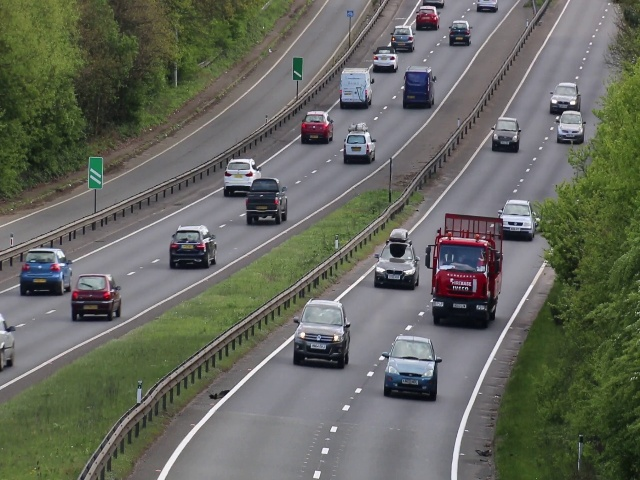car: (435, 233, 497, 329), (291, 294, 352, 370), (383, 331, 437, 402), (16, 244, 76, 296), (168, 220, 219, 272), (71, 269, 119, 321), (242, 177, 289, 226), (379, 230, 418, 288), (495, 194, 539, 238), (339, 63, 374, 109), (222, 157, 262, 193), (403, 69, 437, 109), (339, 130, 377, 164), (300, 109, 334, 146), (554, 109, 586, 144), (492, 115, 521, 153), (551, 80, 579, 114), (369, 47, 399, 72), (390, 23, 416, 51), (415, 6, 439, 32), (448, 19, 471, 45)
